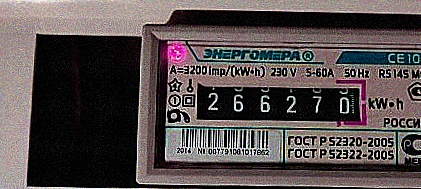0: (337, 94, 349, 115)
2: (205, 89, 219, 111), (284, 92, 296, 114)
6: (231, 92, 244, 112), (257, 93, 270, 112)
7: (309, 93, 322, 114)
screen: (185, 71, 374, 133)
